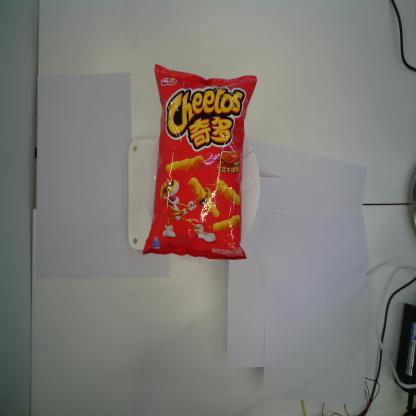Puffed Food: (140, 64, 258, 262)
